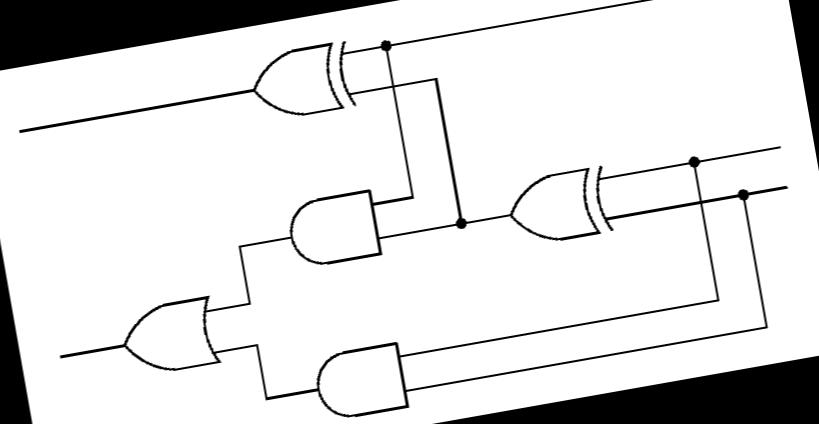and: (272, 180, 392, 277), (301, 333, 419, 424)
or: (106, 287, 226, 384)
xor: (496, 158, 623, 253), (237, 33, 362, 129)
